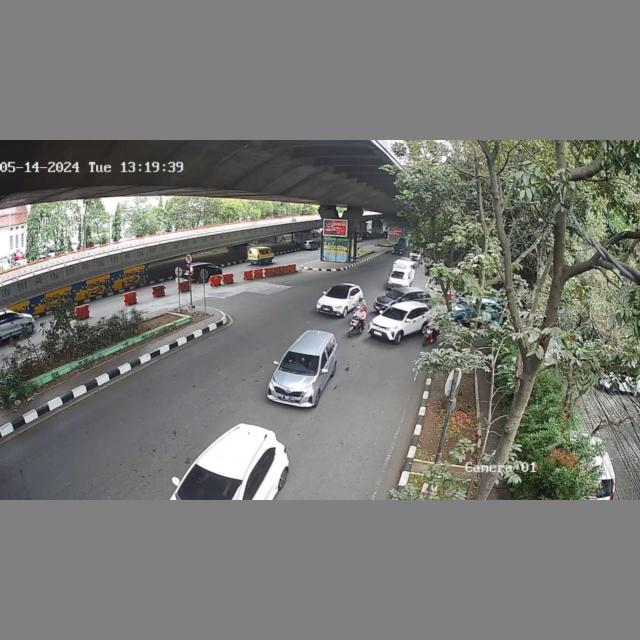windshield: (279, 349, 321, 377), (324, 288, 351, 297)
